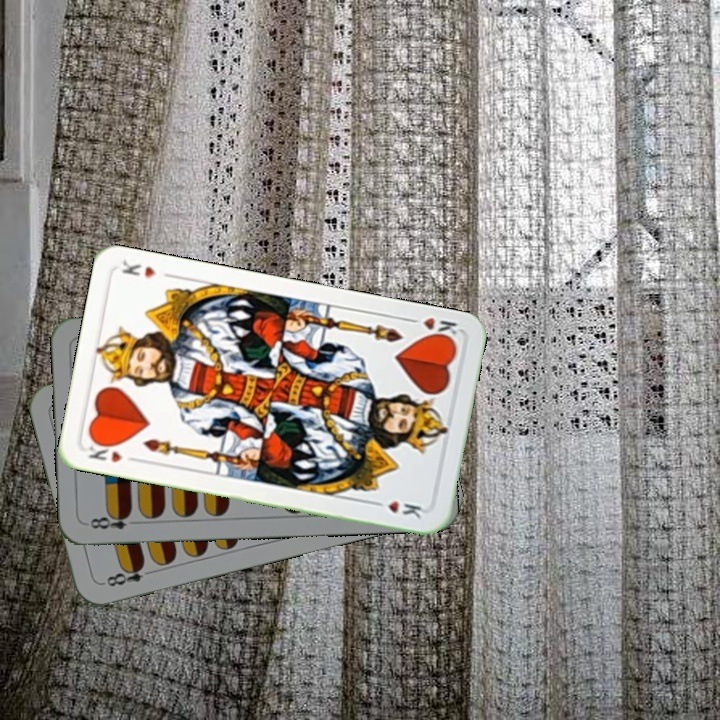E8: (98, 559, 157, 589), (86, 508, 142, 532)
HK: (403, 313, 460, 344), (84, 436, 141, 466)
